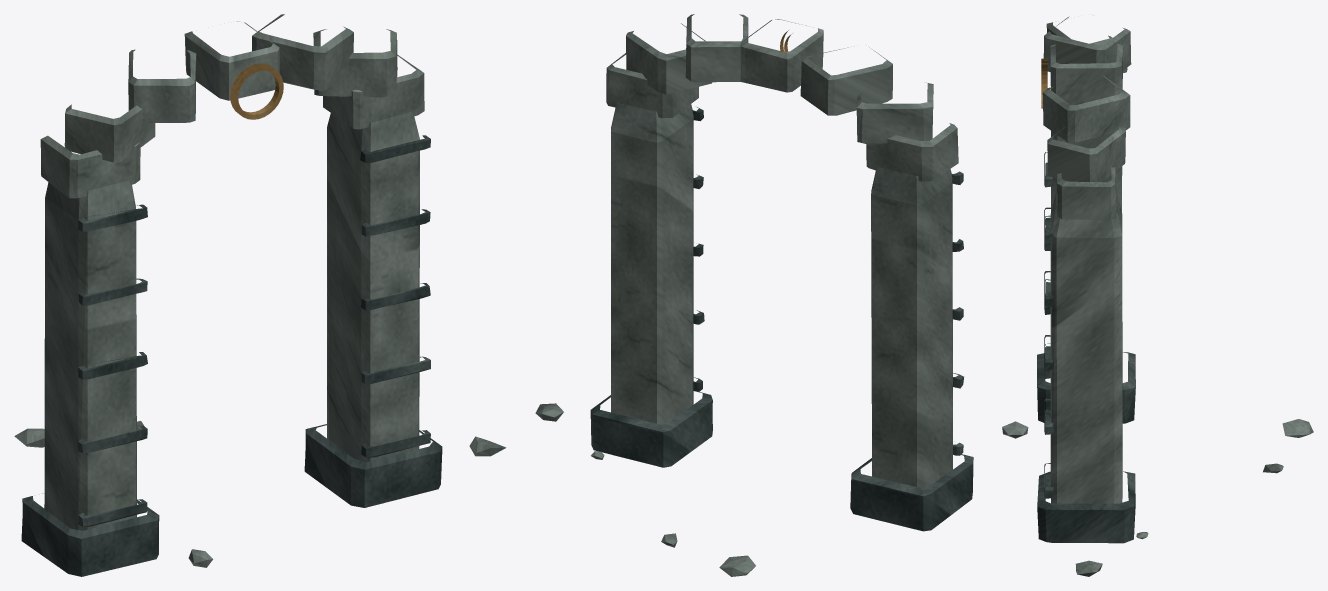
Rendered from 0316_archway_16.glb.
3 views of the same model, side by side, from view 1: azimuth 30°, elevation 25°; view 2: azimuth 150°, elevation 25°; view 3: azimuth 270°, elevation 25° (orthographic). The views are drawn at different scales.
Visible parts, largest first — view 1: stone, stone_dark, brass; view 2: stone, stone_dark; view 3: stone, stone_dark.
Boxes of the visible parts, left/top/right/bottom form: stone: left=14, top=14, right=506, bottom=567; stone_dark: left=21, top=135, right=442, bottom=576; brass: left=230, top=63, right=283, bottom=119; stone: left=535, top=14, right=958, bottom=576; stone_dark: left=590, top=107, right=973, bottom=531; stone: left=1002, top=16, right=1313, bottom=576; stone_dark: left=1037, top=152, right=1135, bottom=543.
Bounding box in the file's own units: 4 × 4.02 × 2.74.
3 materials, 3 textured.
